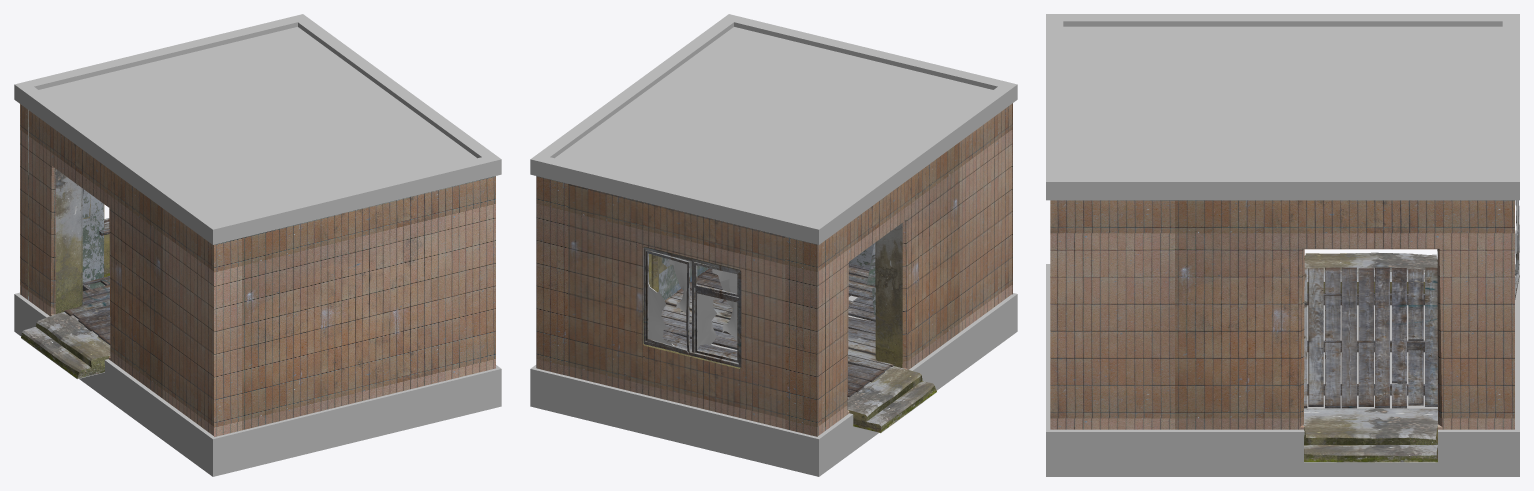
Rendered from House_01_Entrance.FBX.
3 renders of one model, left to right at view 1: azimuth 30°, elevation 25°; view 2: azimuth 150°, elevation 25°; view 3: azimuth 270°, elevation 25°, orthographic. The views are drawn at different scales.
Parts seen in each view (by area): view 1: Box173, Object019, Object016, Box185, Box001, Plane004, Plane001, Plane003; view 2: Box173, Object016, Object015, Box185, Box001, Object014, Plane005, Plane001, Box156, Plane002, Plane003; view 3: Box173, Object016, Box185, Plane001, Box001.
Part boxes in pixels (box(x1,y1,x2,y2)): Box173: box(14, 14, 501, 244); Object019: box(214, 176, 495, 436); Object016: box(20, 104, 213, 435); Box185: box(14, 292, 501, 476); Box001: box(21, 168, 110, 379); Plane004: box(28, 110, 103, 300); Plane001: box(64, 276, 110, 344); Plane003: box(28, 110, 109, 299); Box173: box(530, 14, 1017, 244); Object016: box(536, 104, 1011, 436); Object015: box(568, 184, 817, 436); Box185: box(530, 293, 1017, 476); Box001: box(651, 223, 936, 433); Object014: box(643, 247, 741, 367); Plane005: box(665, 263, 875, 354); Plane001: box(661, 304, 893, 397); Box156: box(648, 259, 737, 349); Plane002: box(659, 243, 875, 315); Plane003: box(643, 240, 825, 430); Box173: box(1046, 14, 1519, 200); Object016: box(1050, 200, 1514, 429); Box185: box(1046, 264, 1519, 476); Plane001: box(1304, 267, 1437, 408); Box001: box(1304, 252, 1437, 462).
Size of the model in its own units: 43400 by 29796 by 43377.
